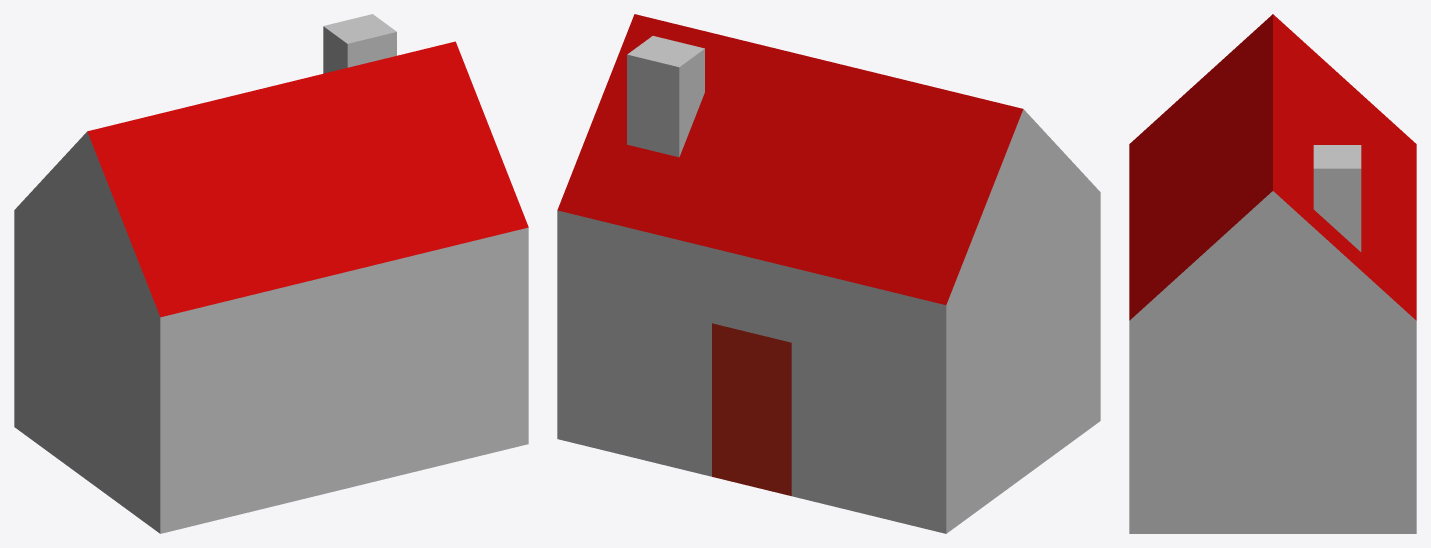
Rendered from house2.obj.
The picture shows the model from 3 angles, left to right: view 1: azimuth 30°, elevation 25°; view 2: azimuth 150°, elevation 25°; view 3: azimuth 270°, elevation 25°; orthographic projection. The views are drawn at different scales.
Visible parts, largest first — view 1: Cube.001; view 2: Cube.001; view 3: Cube.001.
Boxes of the visible parts, x1,y1,x2,y2 form: Cube.001: [14, 14, 528, 533]; Cube.001: [557, 14, 1100, 533]; Cube.001: [1129, 14, 1416, 533].
Size of the model in its own units: 1.96 by 1.79 by 1.34.
